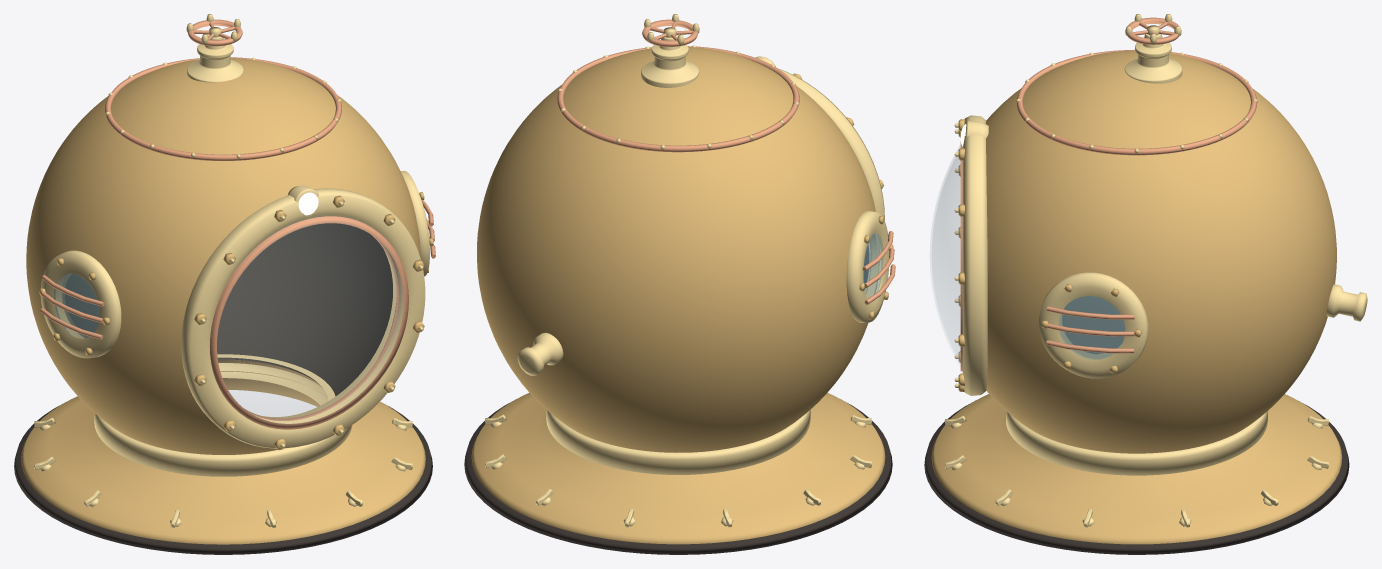
File: diver.glb
3 views of the same model, side by side, from view 1: azimuth 30°, elevation 25°; view 2: azimuth 150°, elevation 25°; view 3: azimuth 270°, elevation 25° (orthographic). The views are drawn at different scales.
Parts seen in each view (by area): view 1: diver_body, glass_diver_window, glass_diver_port_L, diver_wheel_mesh; view 2: diver_body, diver_wheel_mesh, glass_diver_port_L; view 3: diver_body, glass_diver_window, glass_diver_port_R, diver_wheel_mesh.
Boxes of the visible parts, bbox=[...] form: diver_body: bbox=[14, 34, 435, 554]; glass_diver_window: bbox=[217, 223, 402, 423]; glass_diver_port_L: bbox=[53, 273, 99, 338]; diver_wheel_mesh: bbox=[186, 14, 242, 46]; diver_body: bbox=[464, 33, 895, 554]; diver_wheel_mesh: bbox=[642, 14, 699, 46]; glass_diver_port_L: bbox=[863, 233, 882, 298]; diver_body: bbox=[924, 34, 1367, 554]; glass_diver_window: bbox=[930, 147, 960, 364]; glass_diver_port_R: bbox=[1058, 296, 1125, 359]; diver_wheel_mesh: bbox=[1125, 14, 1181, 44].
Size of the model in its own units: 2.11 by 2.36 by 2.15.
